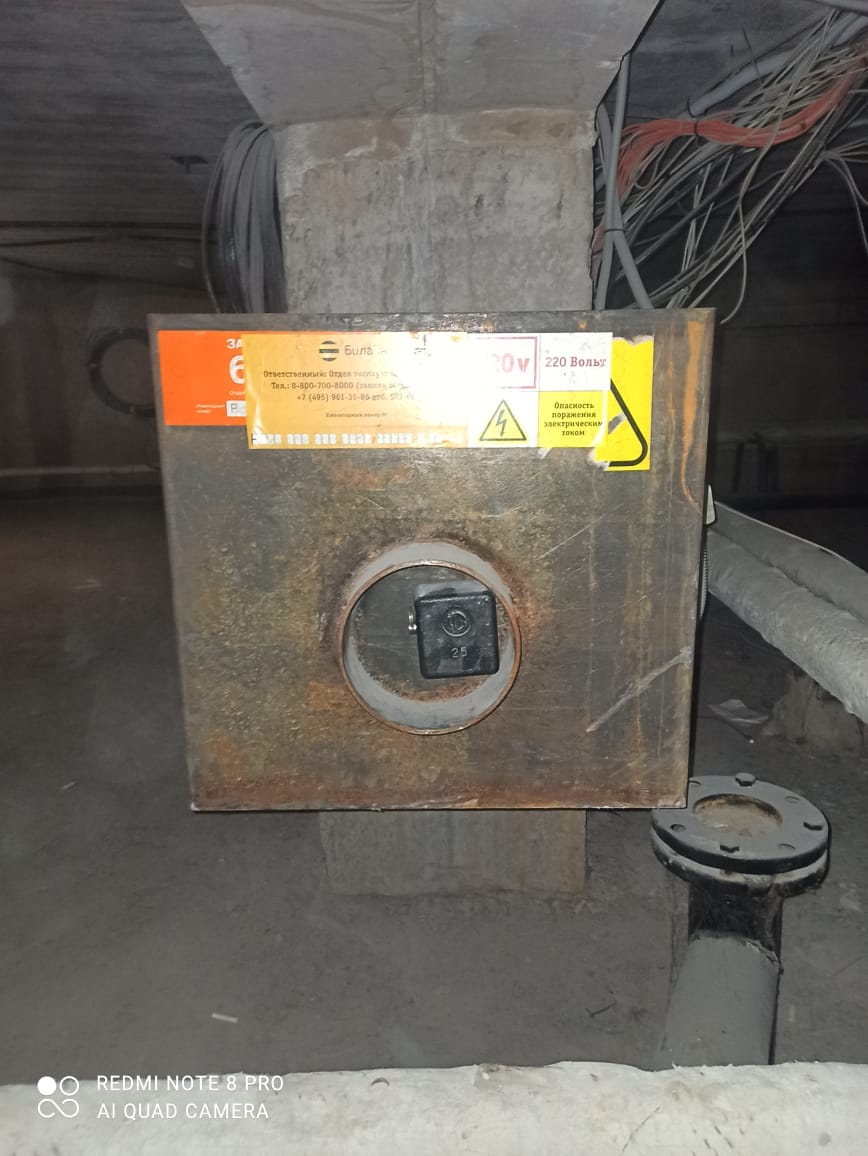shta-9: (143, 302, 717, 813)
